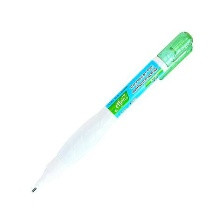correction_fluid: (29, 29, 195, 195)
